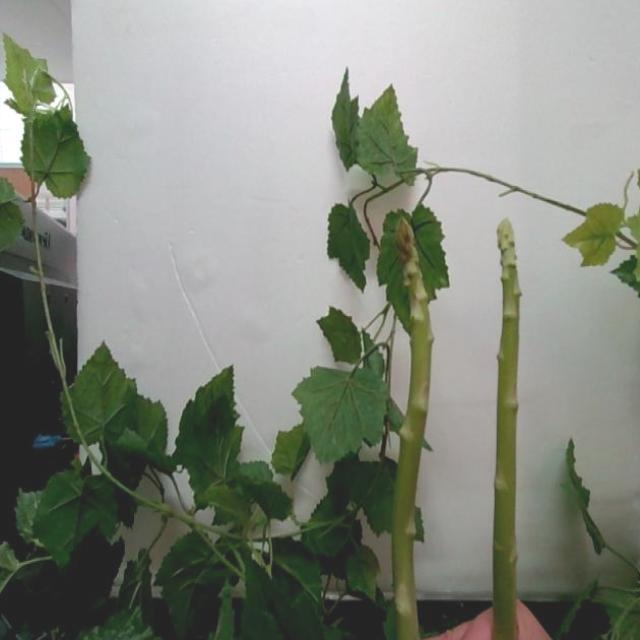aspargus: (393, 218, 434, 640), (489, 221, 522, 640)
